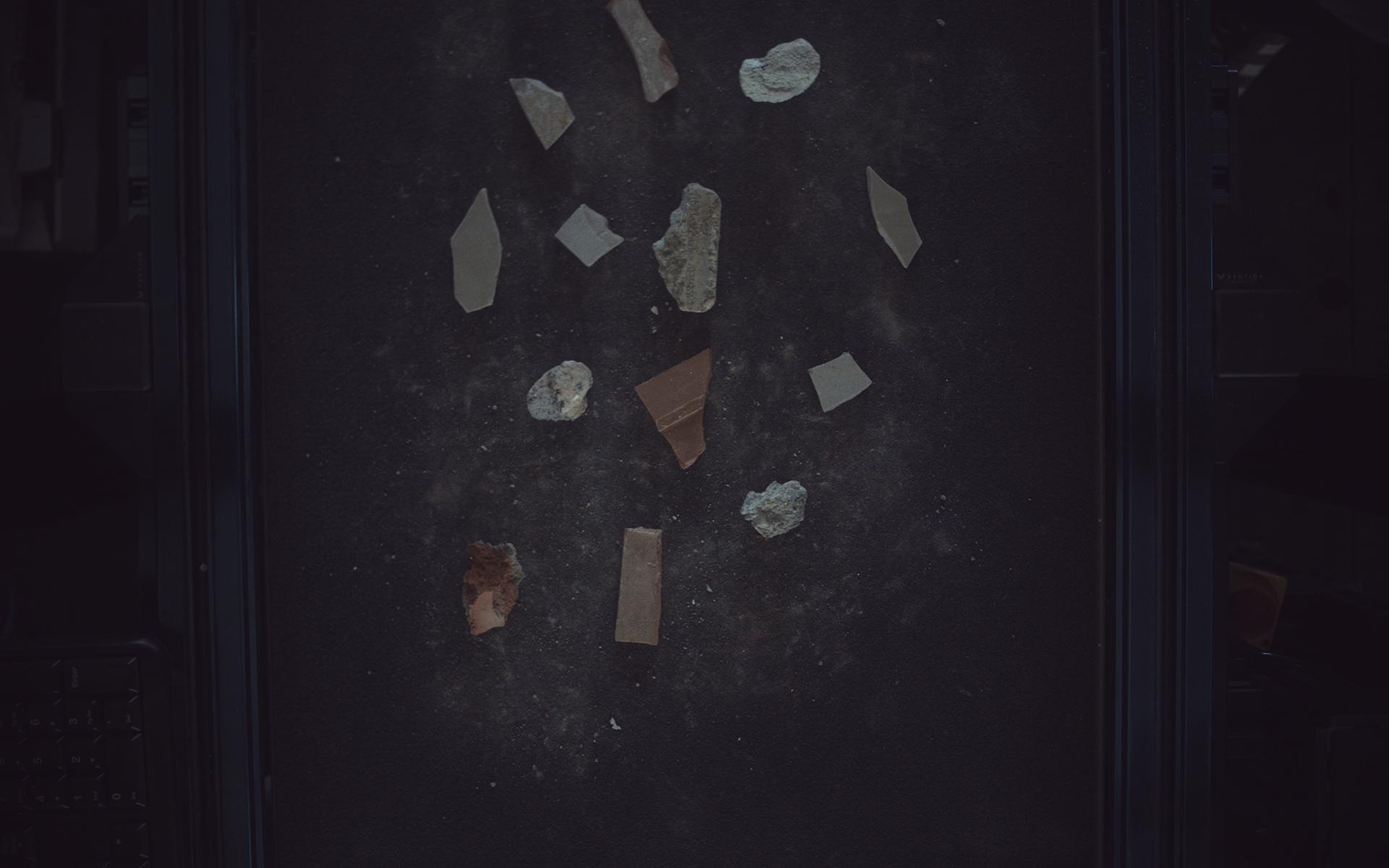brick: (636, 349, 713, 469), (608, 1, 679, 101), (463, 542, 524, 637), (616, 529, 663, 647)
concrete: (654, 182, 723, 312), (742, 37, 821, 101), (527, 360, 593, 421), (743, 481, 808, 539)
tile: (451, 187, 502, 312), (868, 166, 924, 268), (510, 77, 576, 148), (556, 203, 624, 266), (810, 352, 874, 412)
